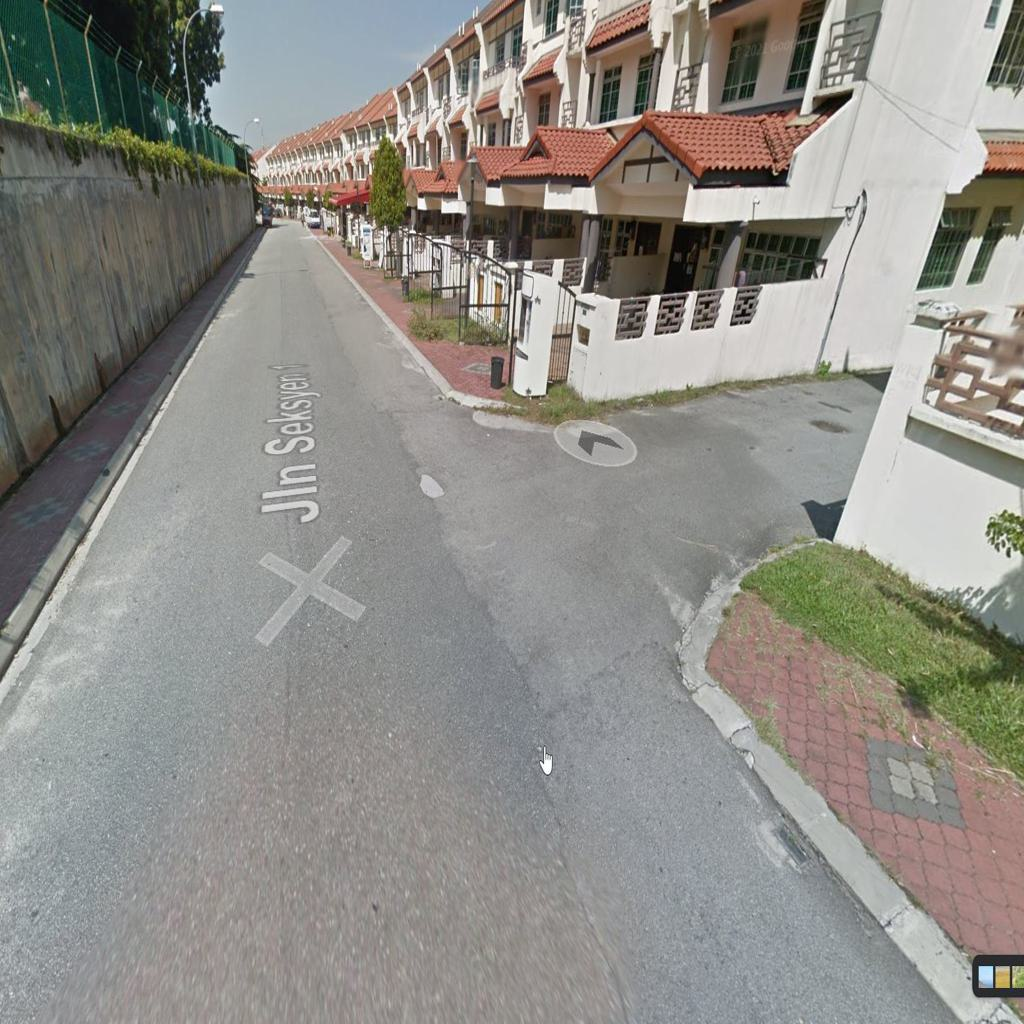Junction: (490, 377, 851, 628)
